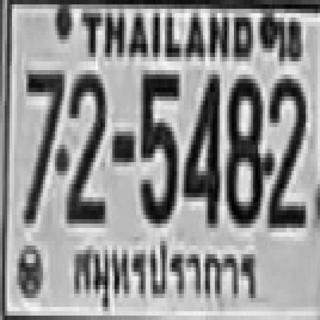N02: (266, 72, 304, 226), (66, 68, 104, 217)
N04: (182, 70, 217, 224)
N05: (138, 70, 177, 219)
N07: (22, 64, 62, 221)
N08: (224, 74, 263, 224)
P57: (68, 236, 260, 306)
